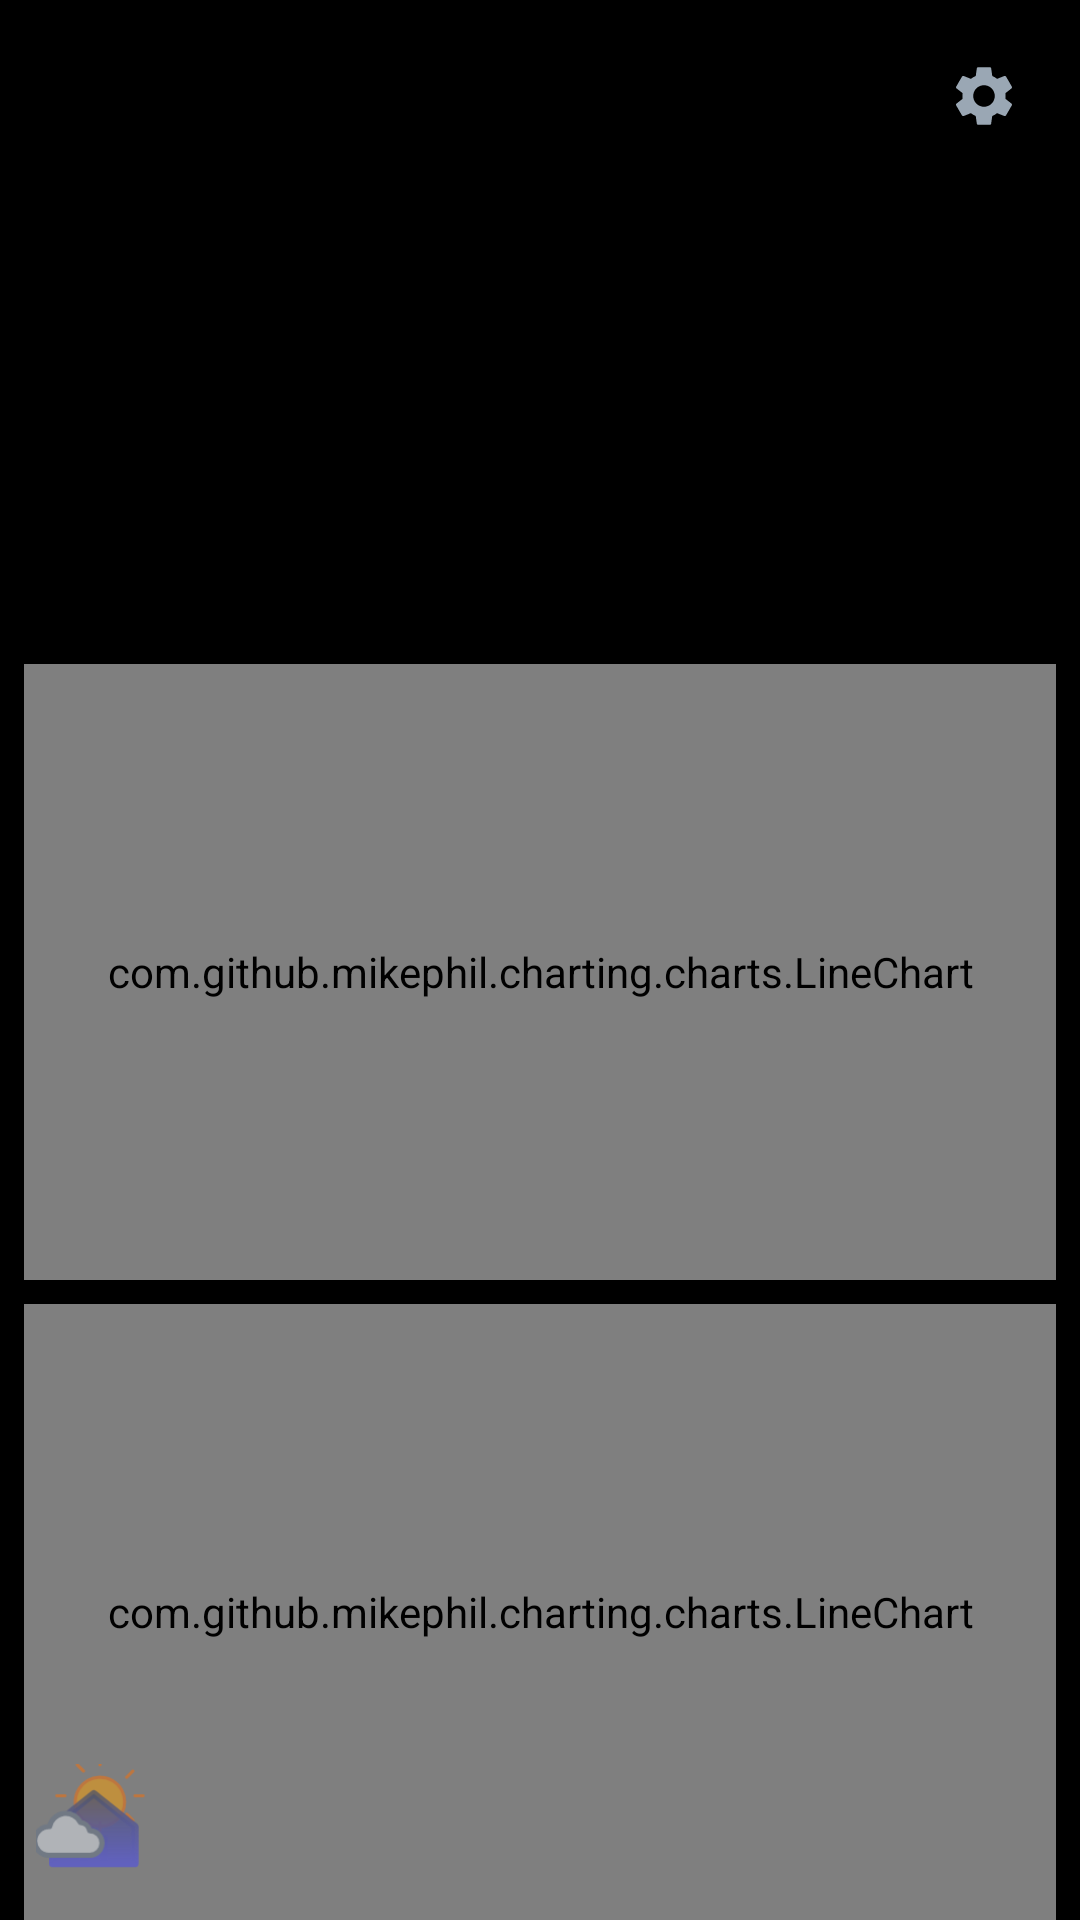

Where to tap for icons on this 1080*1920 app screen, as (x=x, y=y):
Settings: (x=984, y=96)
